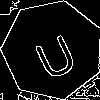U: (27, 24, 81, 82)
